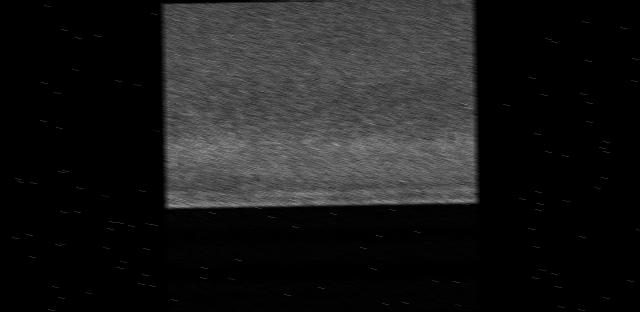silk_spot: (192, 61, 396, 154)
